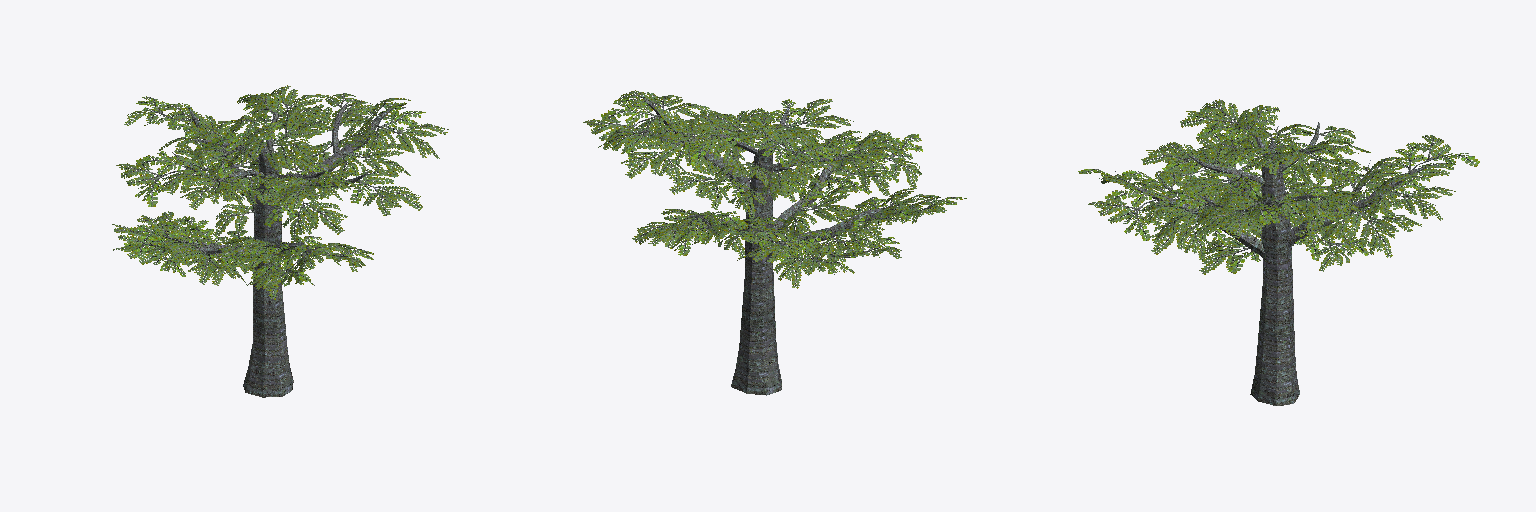
The picture shows the model from 3 angles: view 1: azimuth 30°, elevation 25°; view 2: azimuth 150°, elevation 25°; view 3: azimuth 270°, elevation 25°; orthographic projection.
Parts seen in each view (by area): view 1: polySurface1588; view 2: polySurface1588; view 3: polySurface1588.
Boxes of the visible parts, box(x1,y1,x2,y2) form: polySurface1588: box(112, 85, 448, 397); polySurface1588: box(583, 90, 966, 395); polySurface1588: box(1078, 99, 1479, 405).
Size of the model in its own units: 210 by 155 by 216.
1 materials, 1 textured.